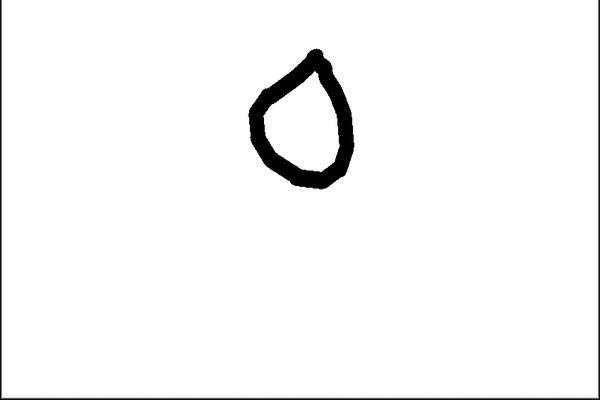O: (239, 37, 364, 196)
